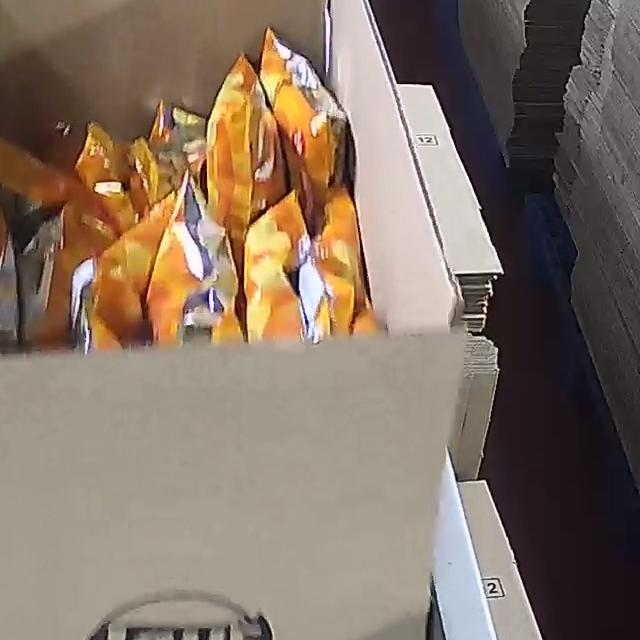cheese: (0, 0, 397, 328)
